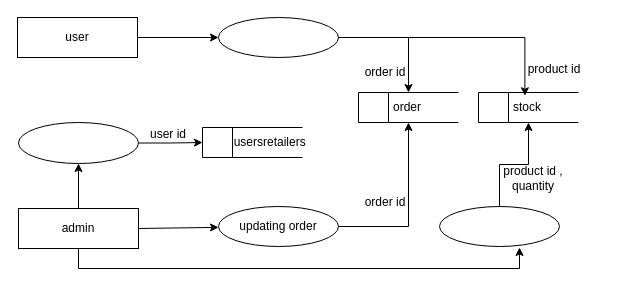
Some shapes in this 617 by 294 pixel diagram are drawn without their labels. The shapes that lost their labels are listed below. From the top down, each one's centre as x and y in pixels, then its label:
At (x=278, y=37): "add to cart/order".
At (x=78, y=143): "manage user".
At (x=499, y=226): "updating stock".
